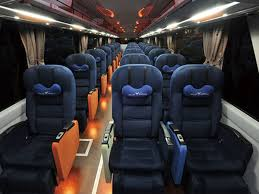seat: (107, 70, 172, 179)
